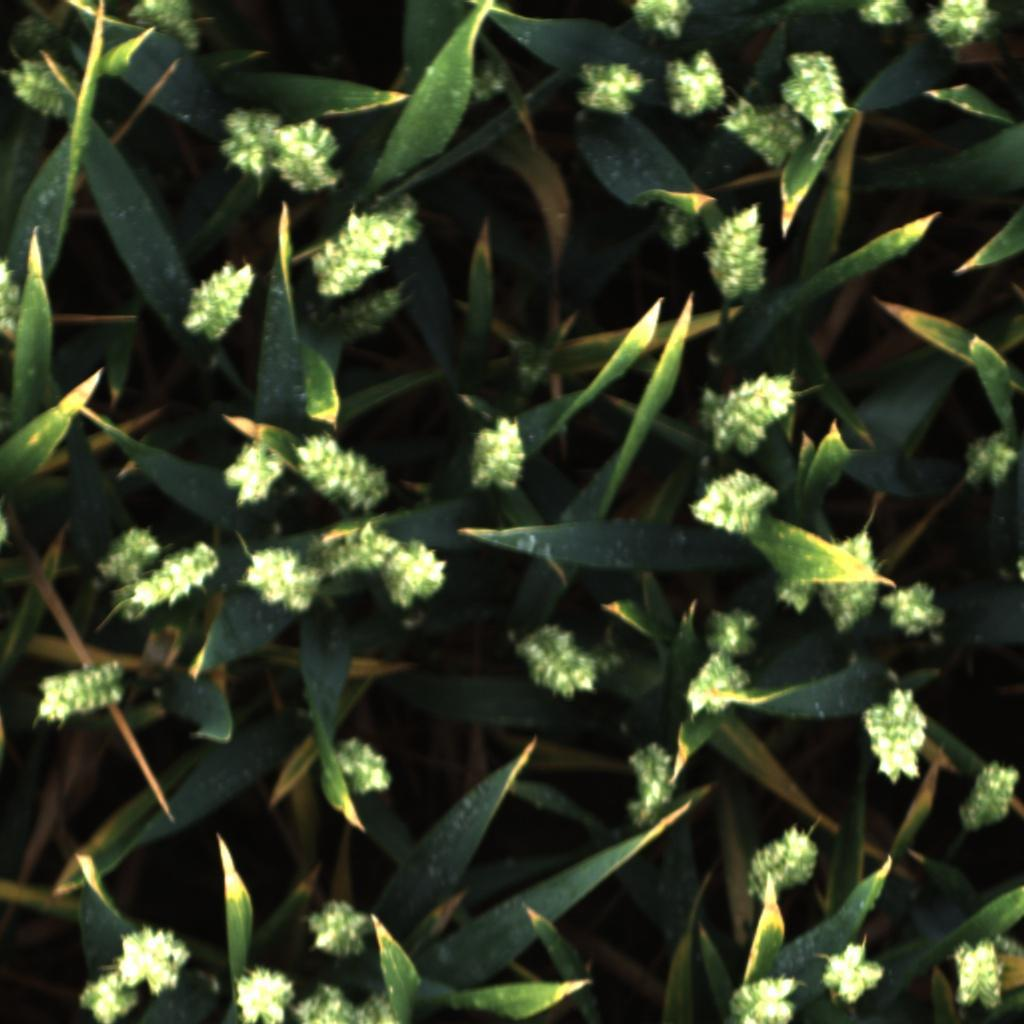0-0: (291, 422, 391, 515), (118, 536, 226, 619), (33, 650, 134, 731), (308, 210, 398, 299), (709, 366, 796, 457), (859, 684, 932, 789), (783, 47, 865, 140), (509, 621, 601, 703), (703, 198, 773, 304), (744, 814, 826, 903), (814, 528, 879, 639), (316, 513, 409, 590), (179, 259, 264, 343), (680, 469, 781, 539), (109, 917, 192, 1000), (238, 537, 320, 617), (462, 411, 533, 497), (813, 934, 892, 1007), (716, 98, 798, 168), (946, 934, 1013, 1019), (213, 103, 286, 180), (956, 759, 1024, 838), (326, 282, 407, 347), (217, 436, 286, 510), (276, 119, 345, 193), (683, 650, 756, 719), (9, 57, 83, 125), (577, 52, 645, 125), (383, 539, 450, 613), (125, 0, 213, 55), (723, 965, 805, 1024), (301, 893, 376, 957), (664, 47, 726, 121), (94, 514, 161, 579), (230, 956, 294, 1024), (921, 0, 1002, 53), (885, 573, 952, 637), (962, 428, 1023, 497), (624, 739, 679, 814), (701, 599, 761, 667), (336, 733, 395, 800), (365, 190, 426, 252), (75, 968, 140, 1024), (646, 196, 706, 254), (624, 0, 703, 44), (289, 980, 358, 1024), (769, 564, 817, 618), (0, 241, 23, 346), (8, 12, 57, 61), (462, 55, 510, 104), (695, 384, 735, 434), (349, 988, 398, 1024), (853, 0, 914, 28), (589, 636, 625, 673), (625, 794, 662, 829)
